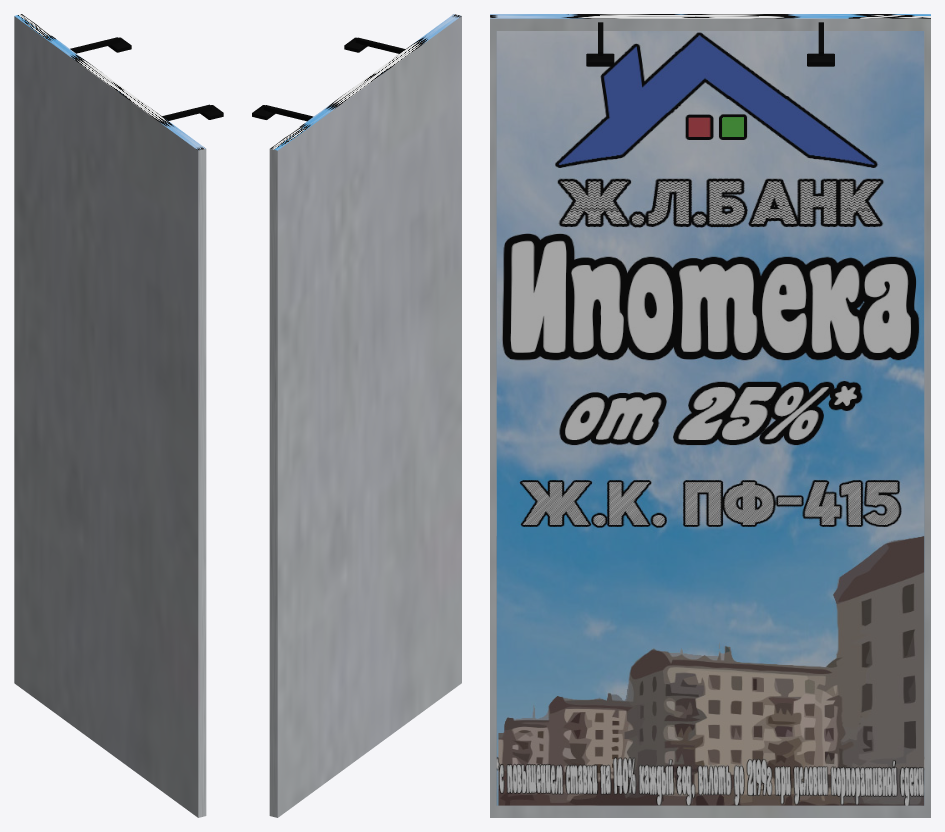
The model's file is billboard2.fbx.
3 views of the same model, side by side, from view 1: azimuth 30°, elevation 25°; view 2: azimuth 150°, elevation 25°; view 3: azimuth 270°, elevation 25° (orthographic). The views are drawn at different scales.
Parts seen in each view (by area): view 1: Cube; view 2: Cube; view 3: Cube.
Boxes of the visible parts, left/top/right/bottom form: Cube: left=14, top=14, right=206, bottom=817; Cube: left=269, top=14, right=461, bottom=817; Cube: left=490, top=14, right=930, bottom=817.
Bounding box in the file's own units: 83.12 × 800 × 400.
